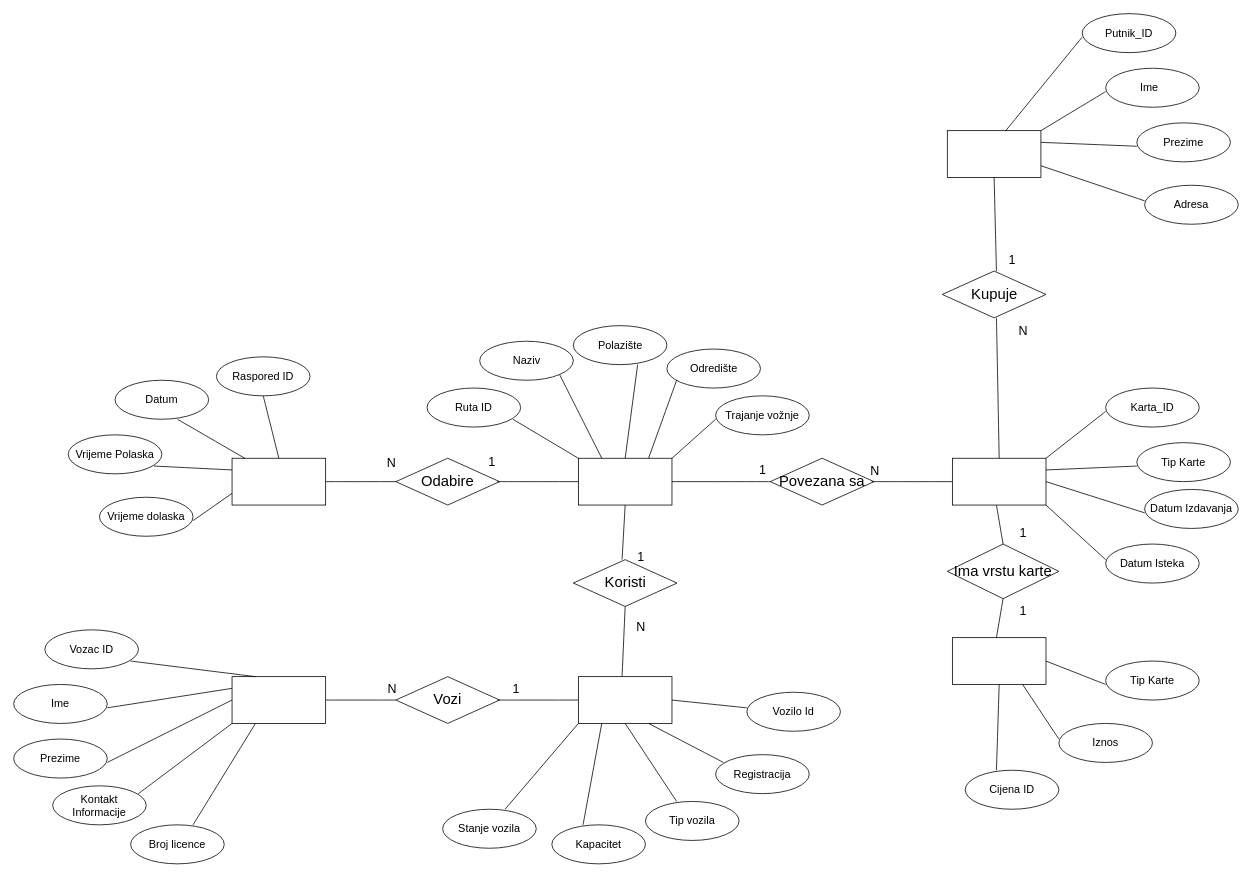
Image size: 1252x877. Some labels were removed from this diagram. Here are the shapes that lost their labels. From the top down, the centre of each, then its label:
At pixel 994 153: "Putnik".
At pixel 278 481: "Raspored vožnje".
At pixel 625 481: "Ruta".
At pixel 999 481: "Karta".
At pixel 999 660: "Cijena".
At pixel 278 699: "Vozač".
At pixel 625 699: "Vozilo".
